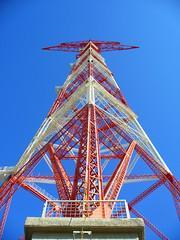power_tower: (2, 35, 180, 240)
